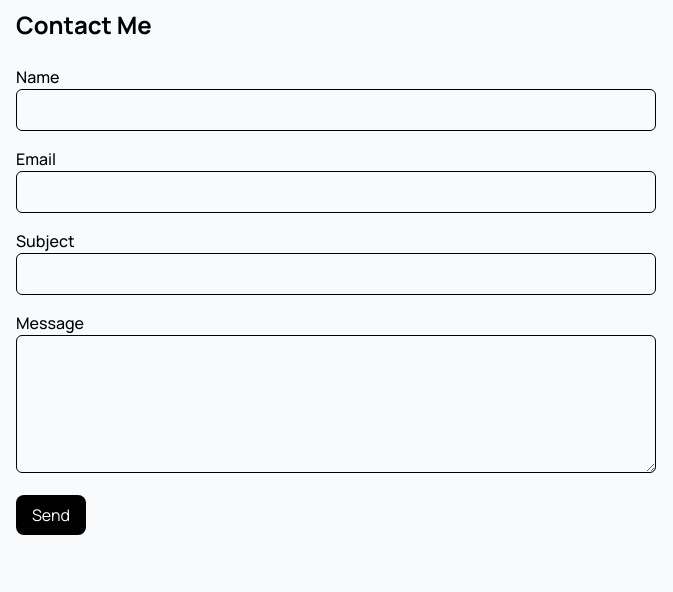
Test: ContactForm › submits the form successfully
Type "Katya" into the field labelled "Name" at (336, 110), box [16,89,656,131]
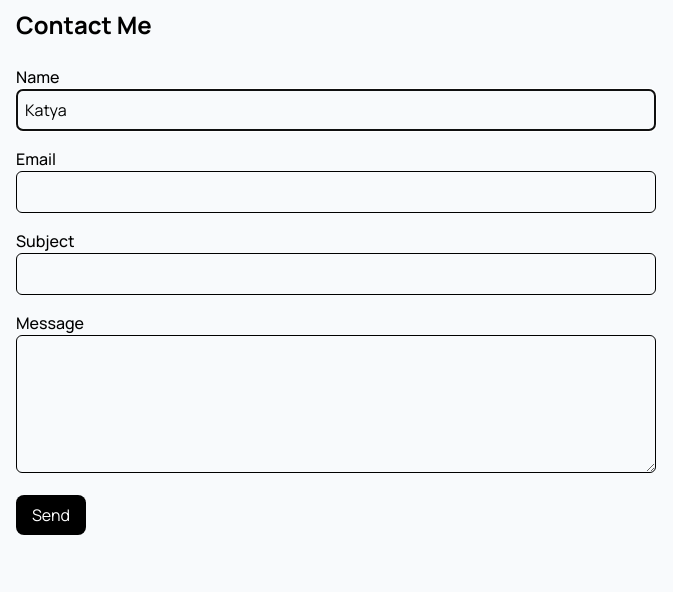
Type "katya@example.com" into the field labelled "Email" at (336, 192), box [16,171,656,213]
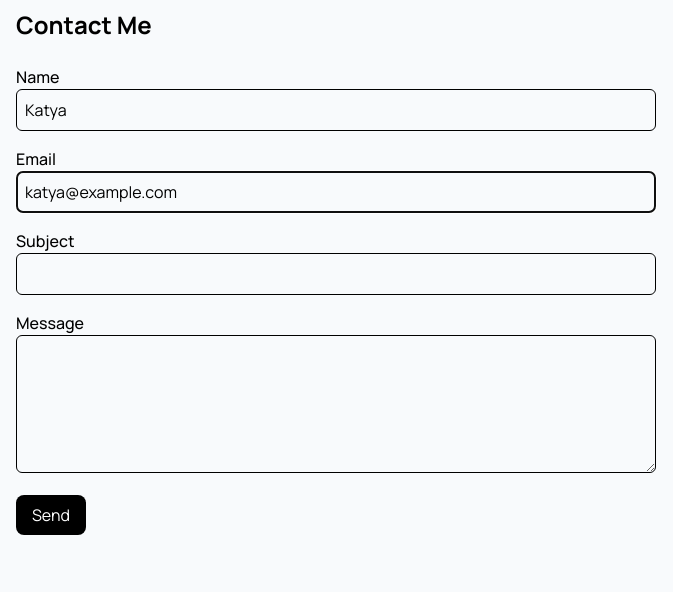
Type "Hello" into the field labelled "Subject" at (336, 274), box [16,253,656,295]
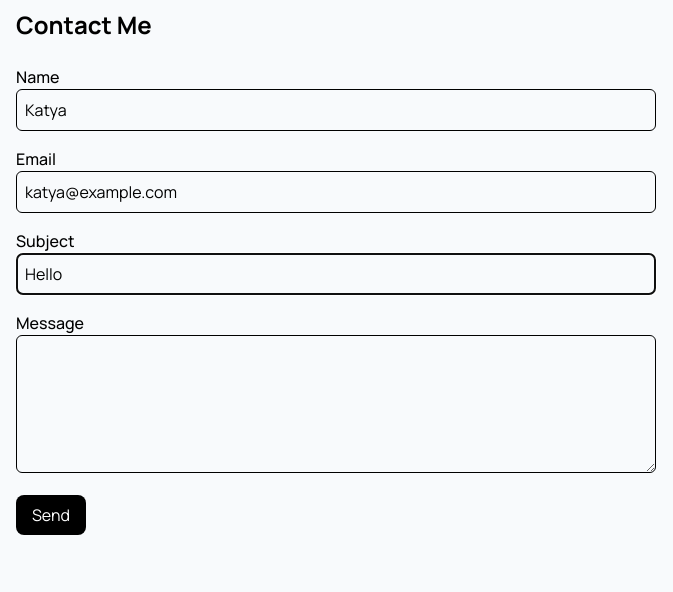
Type "This is a test message" into the text box labelled "Message" at (336, 404), box [16,335,656,473]
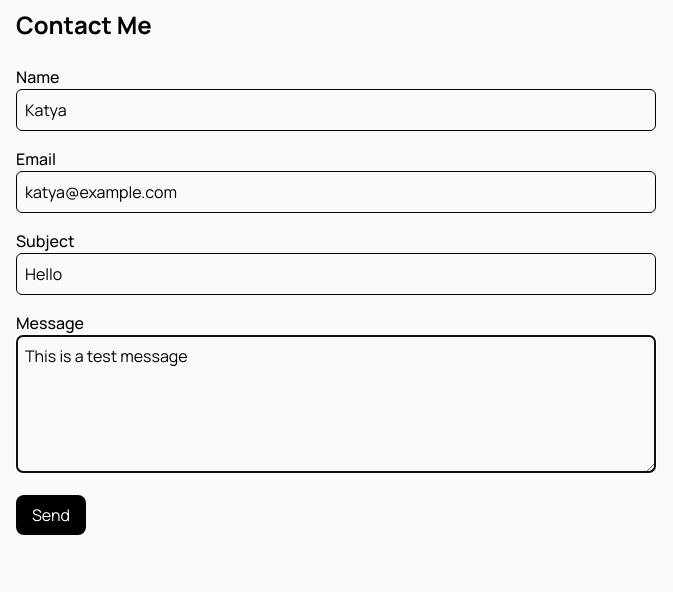
Click the button "Send" at (51, 515), box [16,495,86,535]
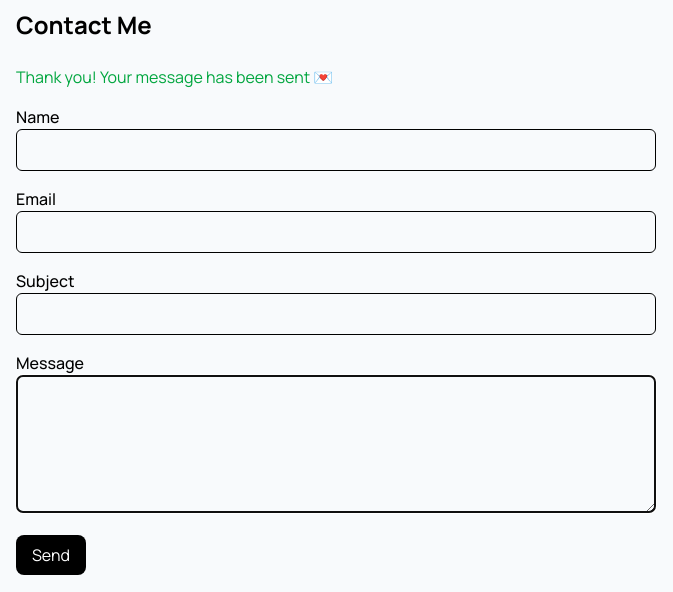
Now the text "Thank you! Your message has been sent 💌" is shown, box [16,66,333,88]
